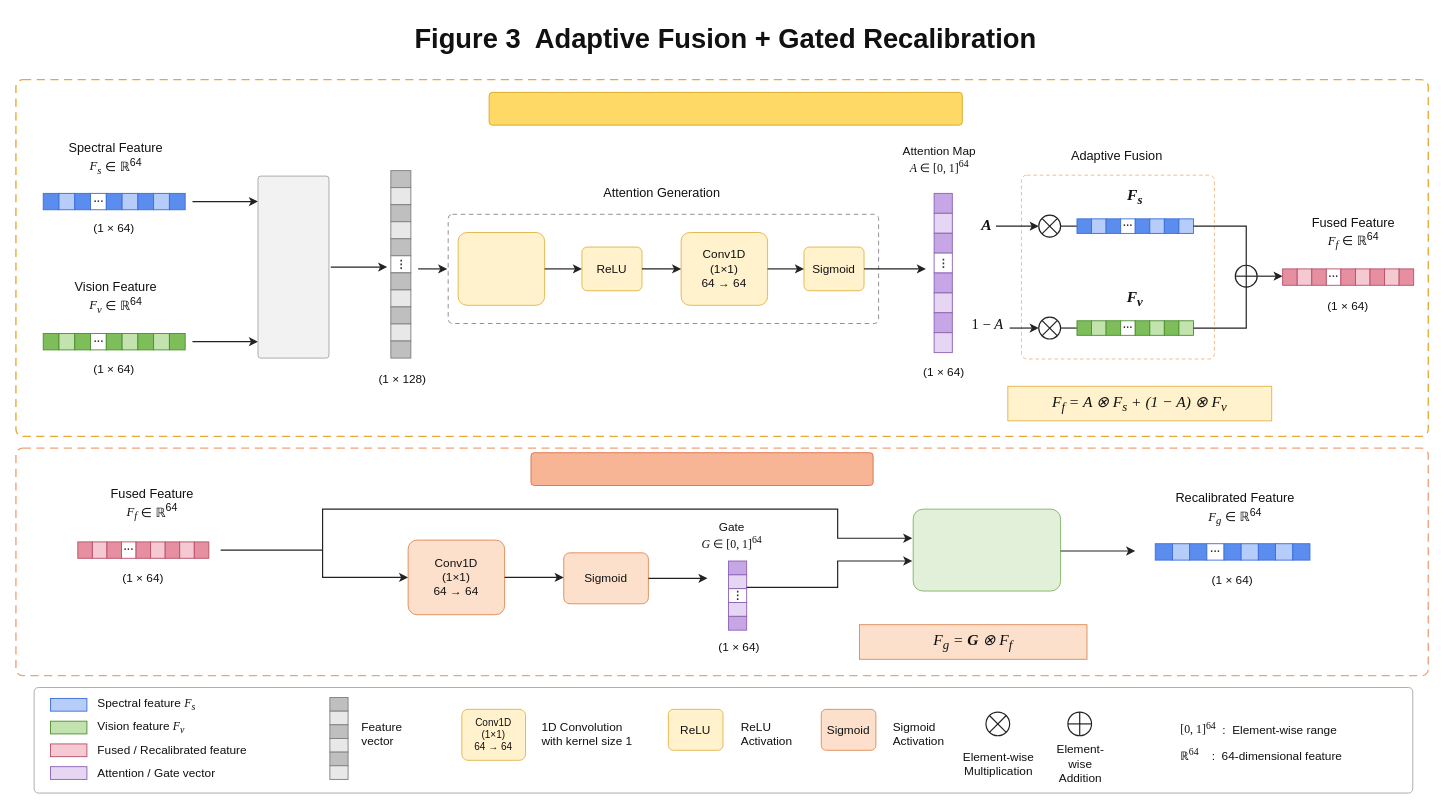
This 1445x809 diagram has some shape labels left out. The box of each missing label's shape, as (x1, y1, x2, y2) in pixels:
(a) Adaptive Spectral–Spatial Attention Fusion: (488, 91, 962, 125)
(b) Gated Feature Recalibration: (530, 452, 873, 485)
Concatenate (1 × 128): (257, 175, 329, 358)
Conv1D (1×1) 128 → 64: (457, 232, 545, 305)
Element-wise Multiplication (⊗): (912, 508, 1061, 591)
